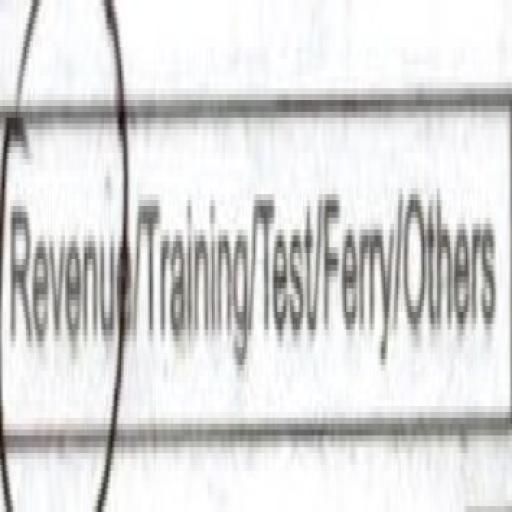check: (2, 0, 131, 512)
